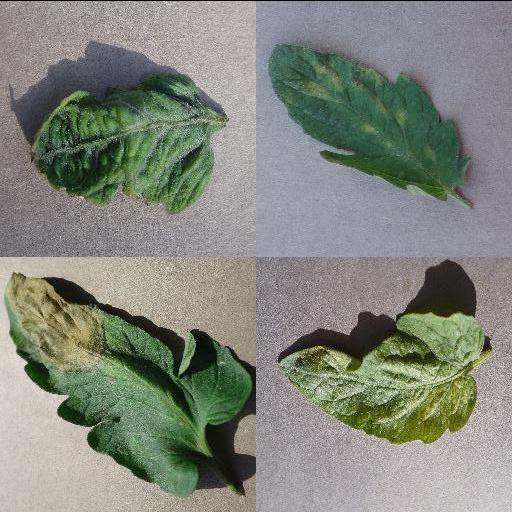Late Blight: (2, 270, 256, 496)
Leaf Mold: (267, 43, 473, 199)
Spider Mites: (279, 311, 483, 443)
Yellow Leaf Curl Virus: (29, 71, 219, 213)
